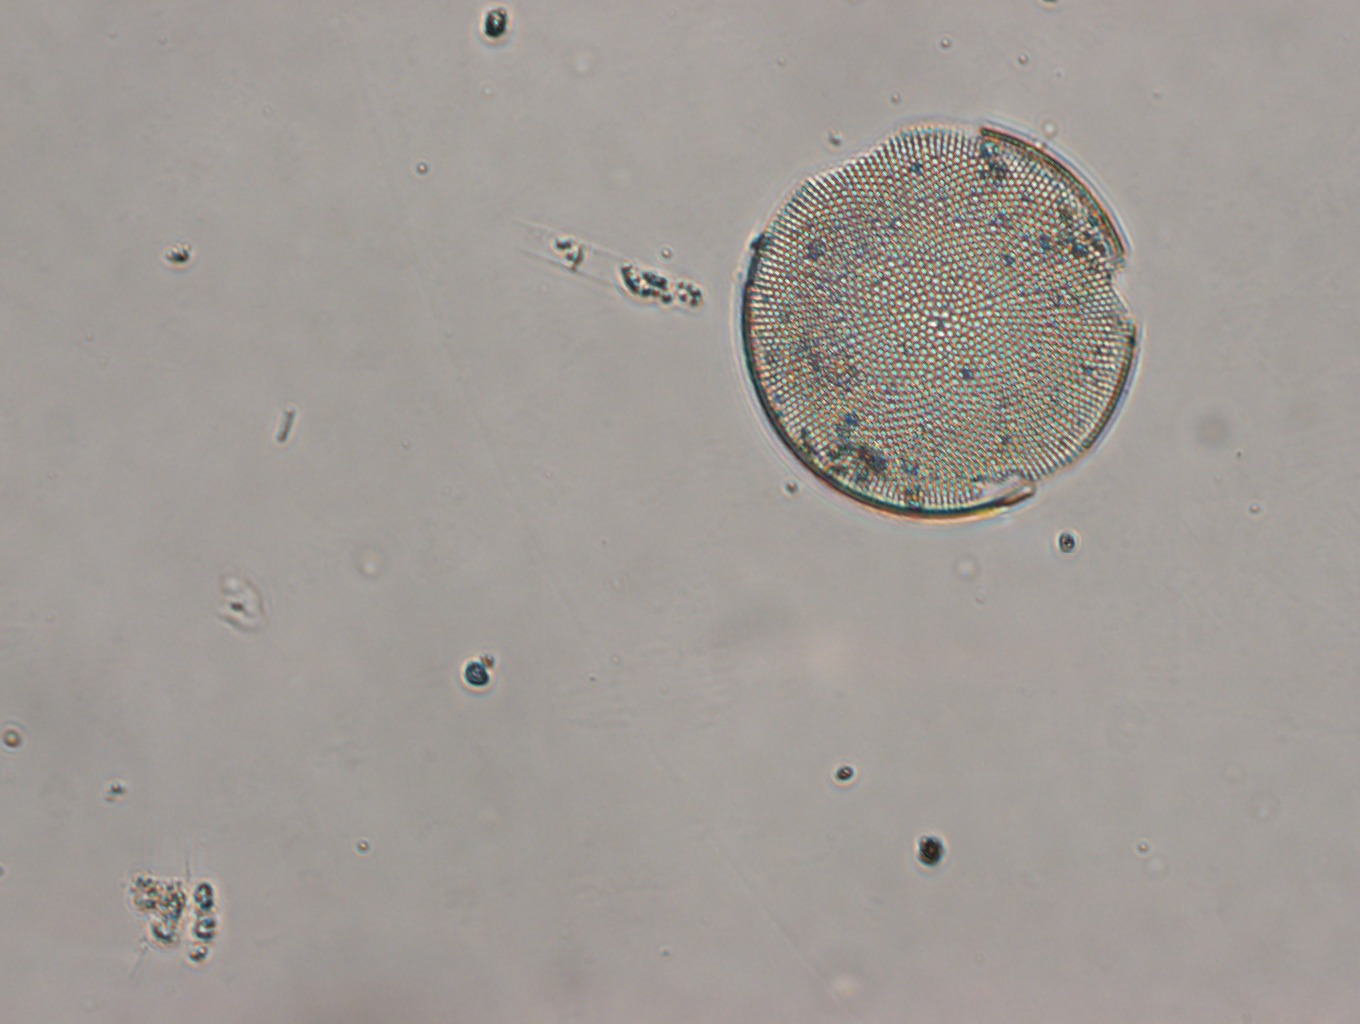coscinodiscus: (739, 120, 1141, 525)
